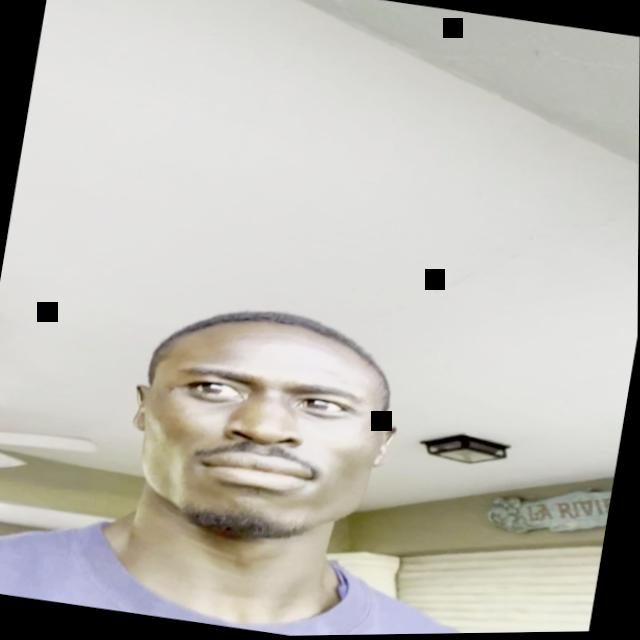NO-Mask: (117, 298, 413, 569)
